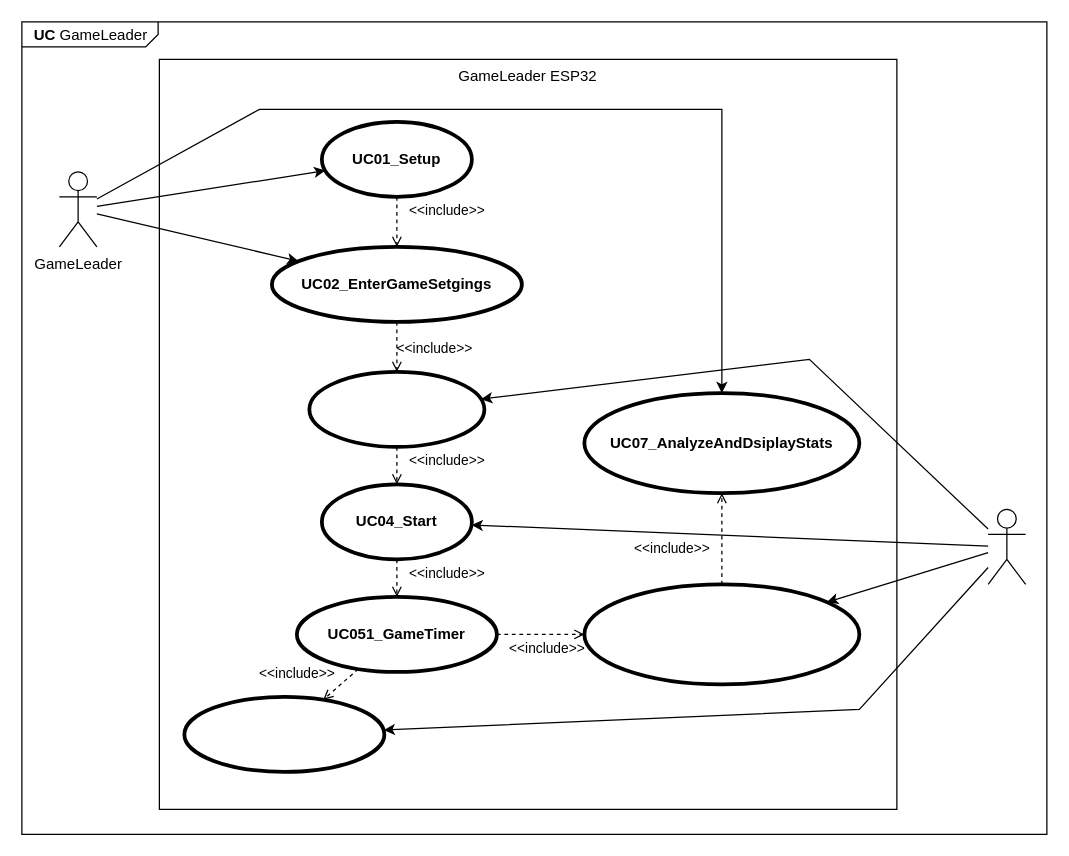
Some shapes in this 1069 by 856 pixel diagram are drawn without their labels. The shapes that lost their labels are listed below. From the top down, each one's centre as x and y in pixels, then its label:
At (x=396, y=408): "UC03_PlayerSetup".
At (x=1006, y=546): "PlayerGun".
At (x=721, y=634): "UC06_ReceivePostGameData".
At (x=284, y=733): "UC052_PlayerStatus".
